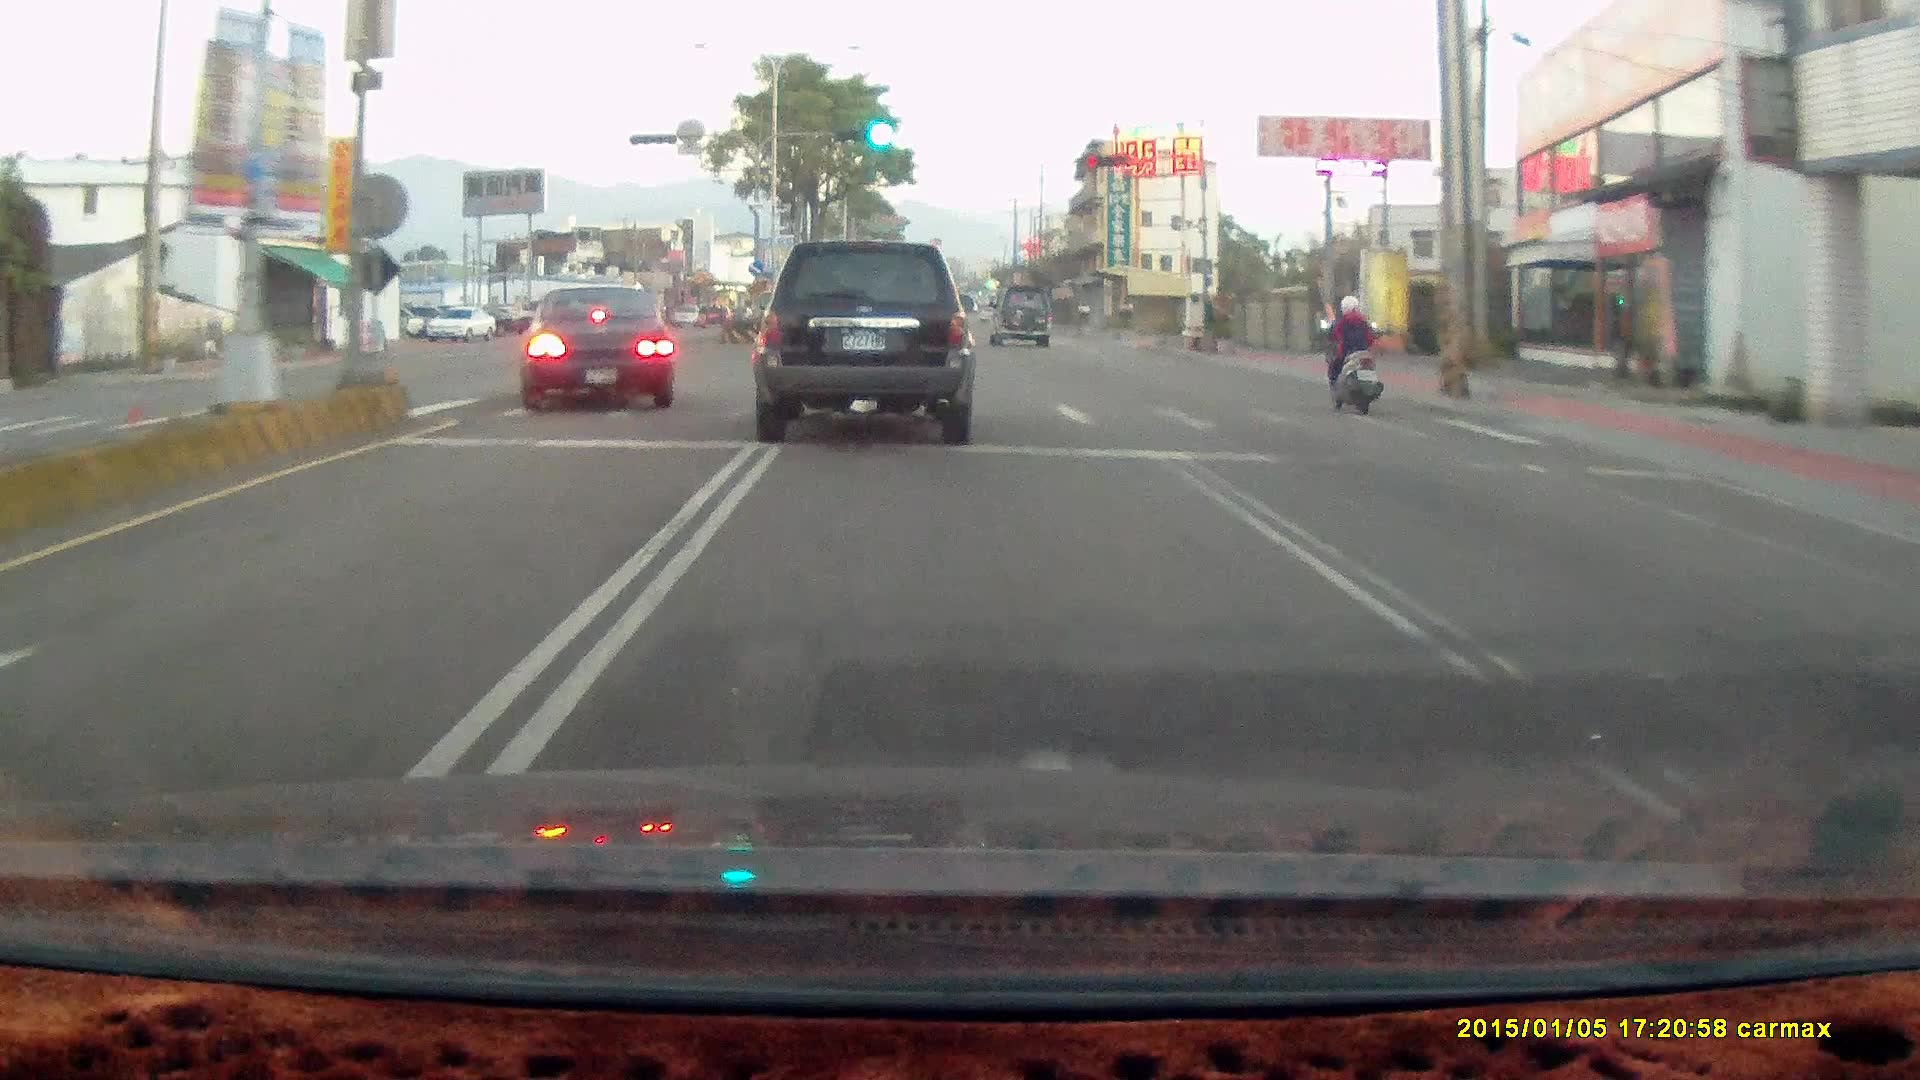rider: (1311, 284, 1396, 426), (1317, 294, 1382, 416)
vehicle: (756, 238, 980, 448), (751, 239, 974, 447), (516, 286, 679, 415), (513, 286, 675, 411), (989, 288, 1055, 353), (986, 282, 1052, 346), (425, 305, 496, 343)
